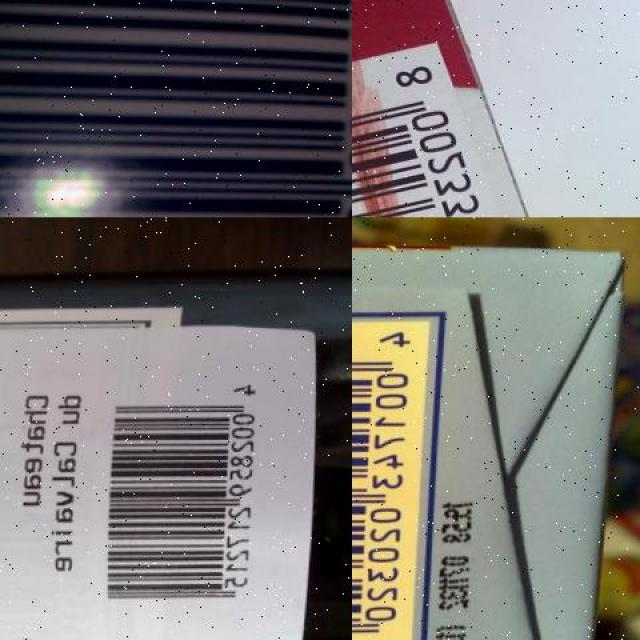Barcode: (0, 0, 352, 217), (88, 370, 291, 630), (352, 41, 581, 218), (352, 321, 424, 640)
